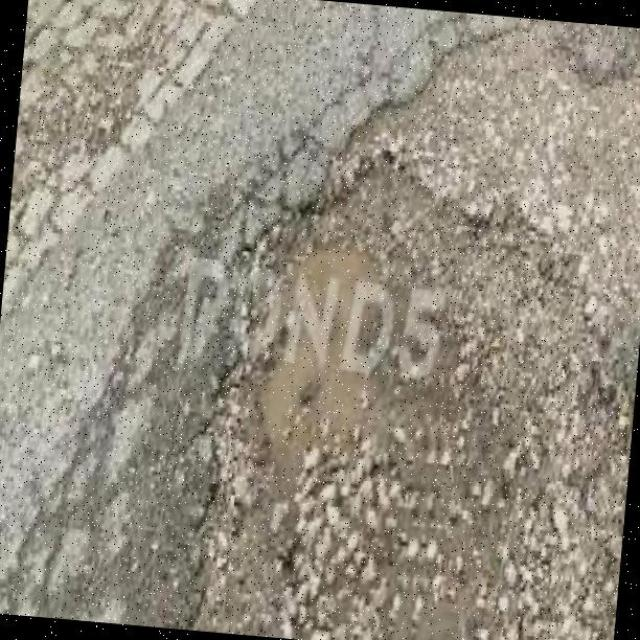pothole: (212, 214, 414, 482)
